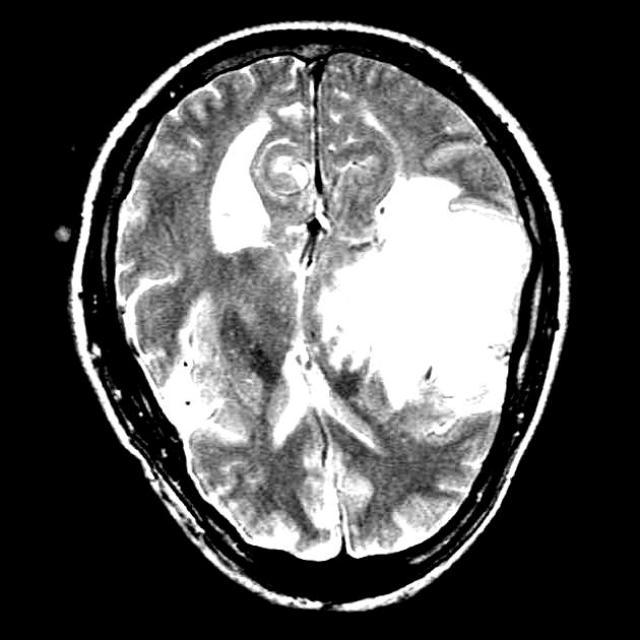Tumor: (315, 176, 533, 414), (152, 299, 241, 441), (207, 119, 271, 254)
